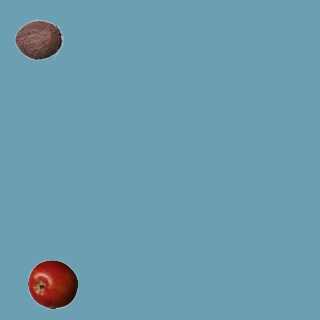Apple Braeburn: (27, 259, 77, 309)
Cocos: (13, 14, 63, 64)
